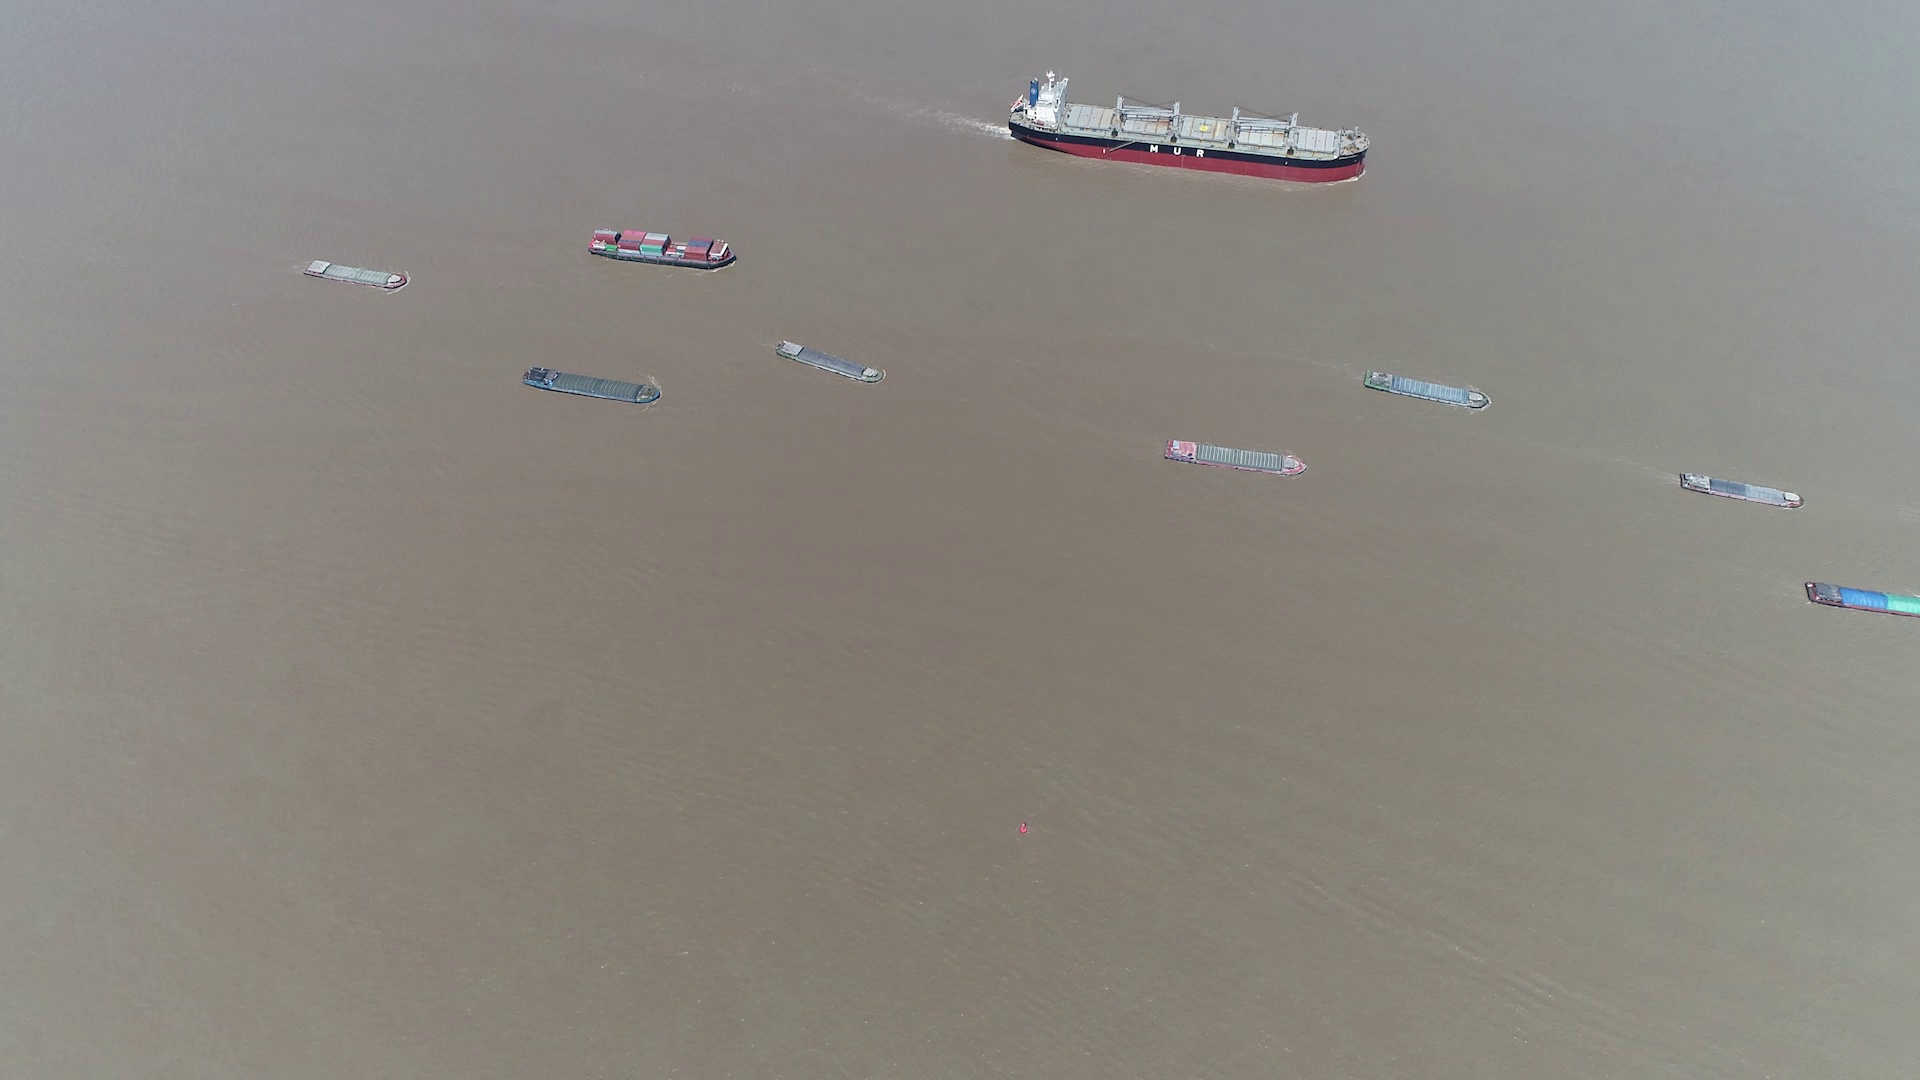ship: (1009, 74, 1366, 179), (588, 229, 735, 269), (1164, 436, 1307, 476), (1364, 368, 1491, 410), (1675, 471, 1807, 510), (524, 368, 662, 405), (774, 340, 885, 385), (1804, 580, 1919, 618), (302, 258, 409, 291)
